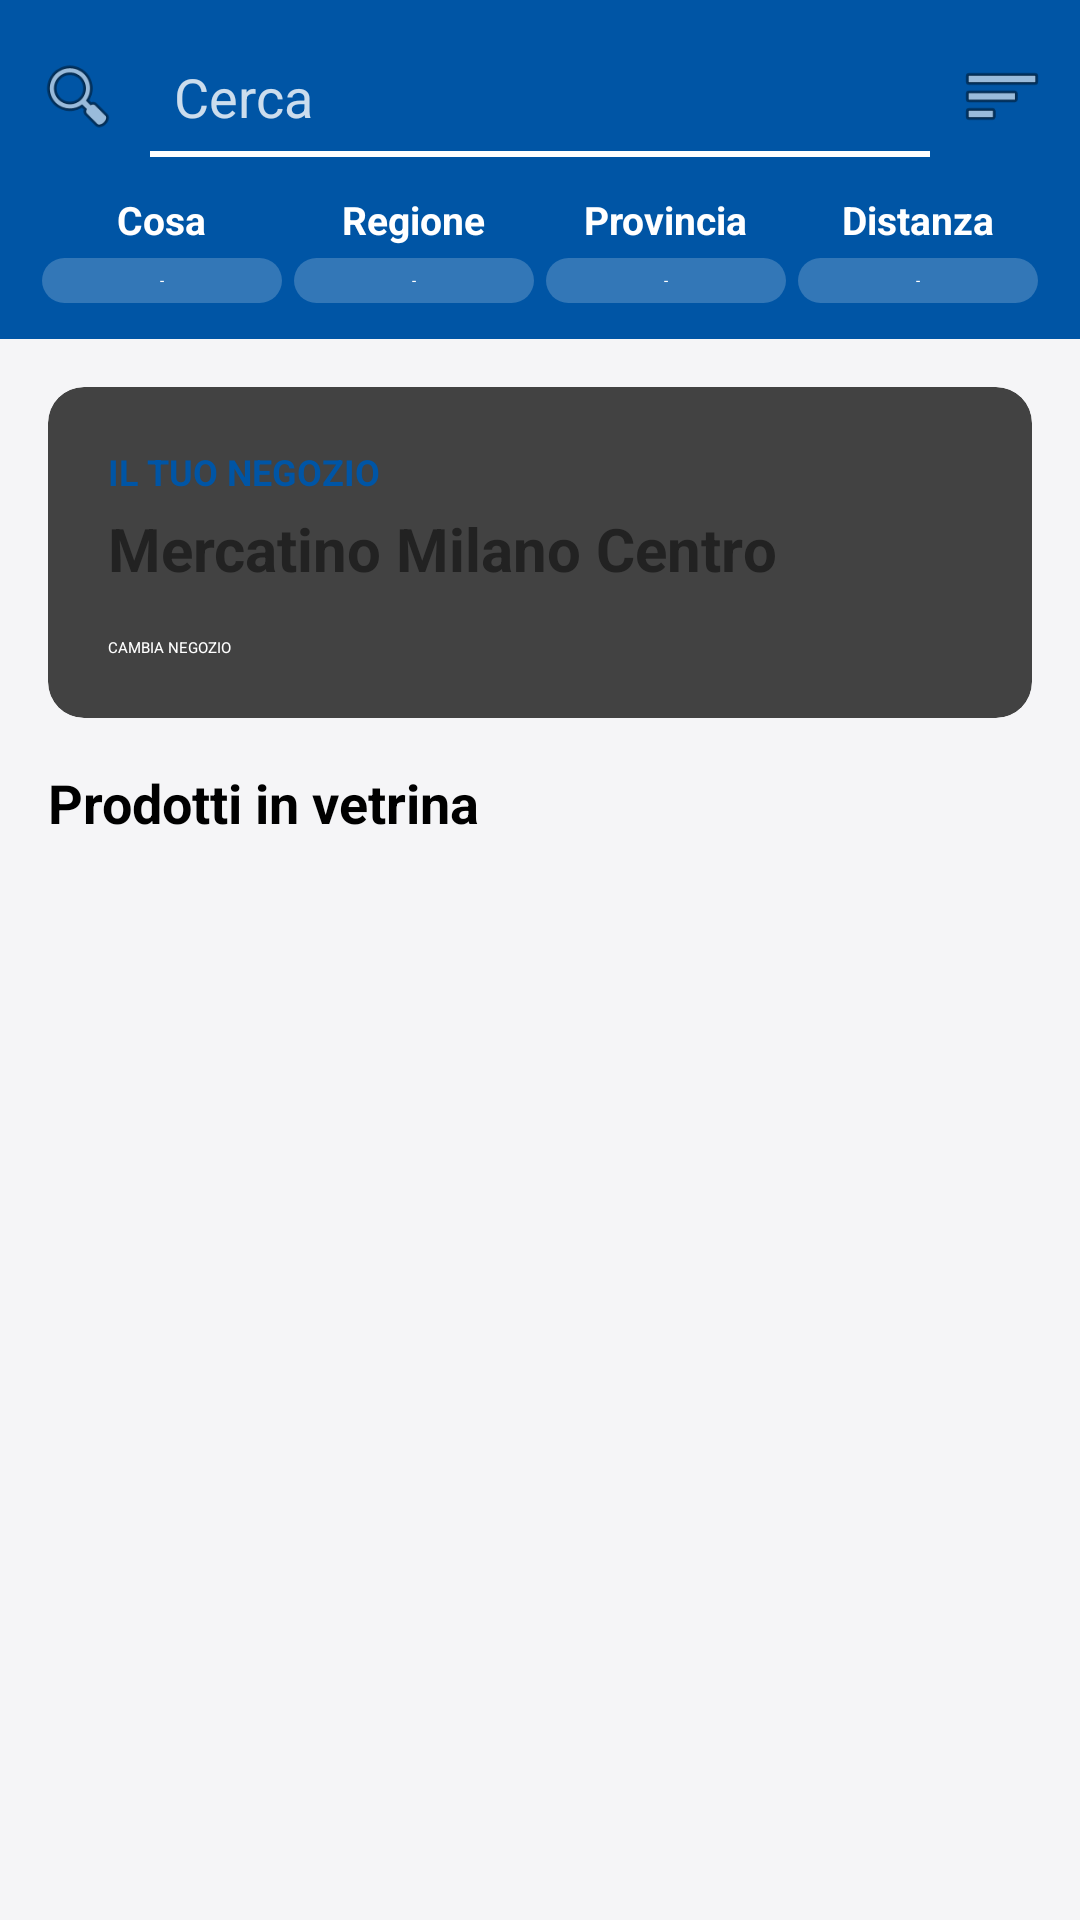

Where icons sit on this 1080px x 1920px app screen, as (x1, y1, x2, y2):
search: (47, 65, 109, 128)
sort by size: (966, 73, 1038, 120)
